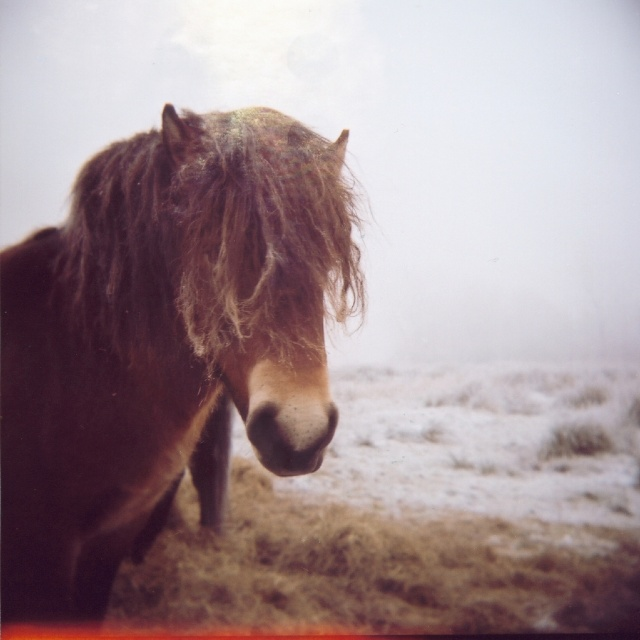Horse: (0, 108, 366, 637)
